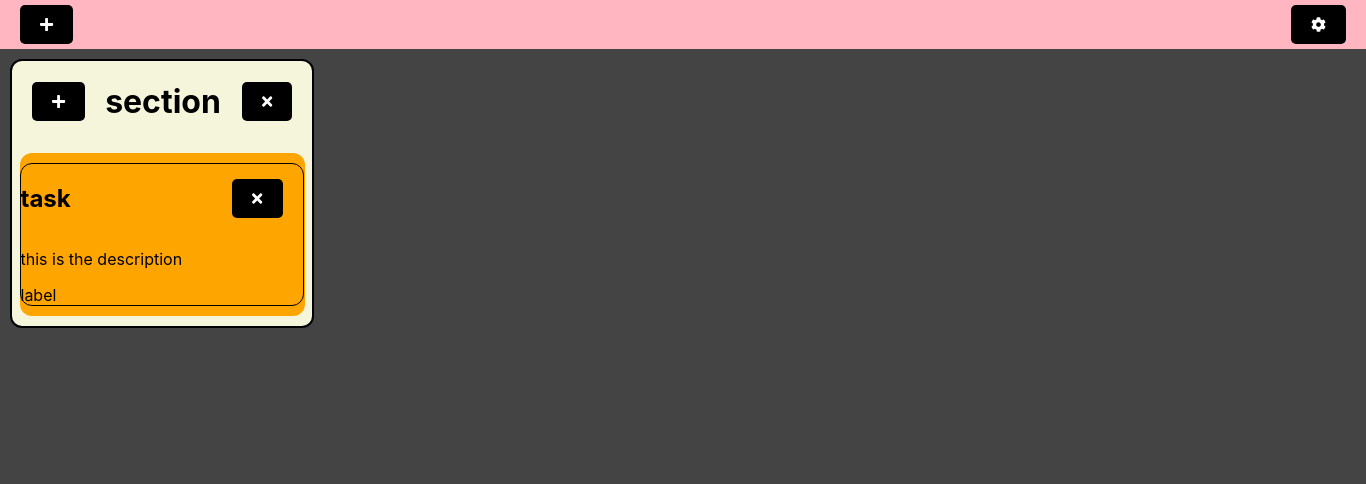
Test case: mocking fetch rest POST functions › POST function for Section component
Click the 1st button: [47, 24] box [20, 5, 73, 44]
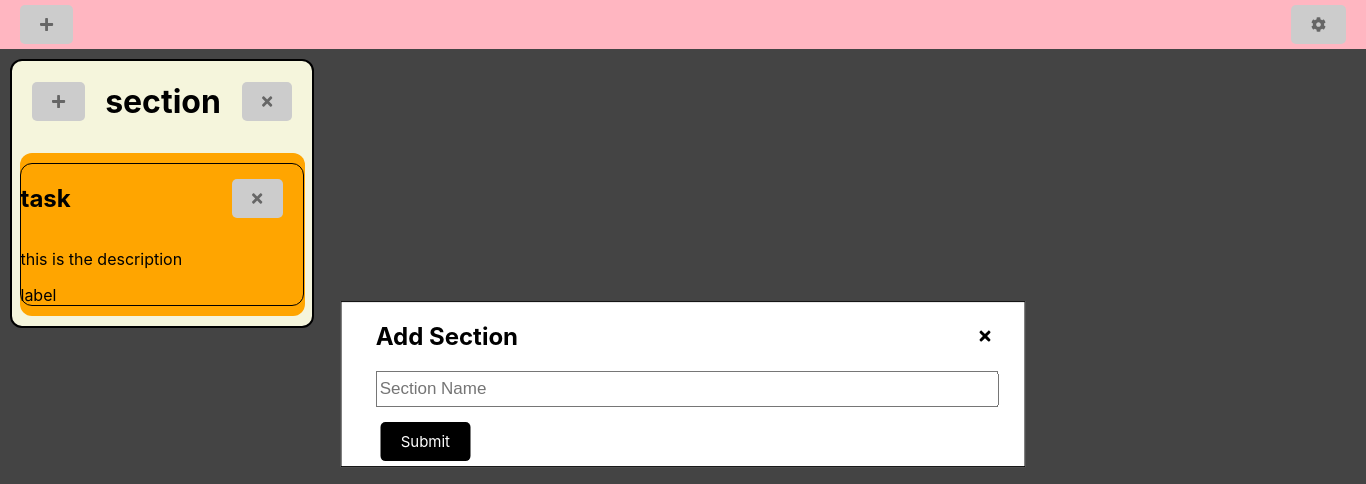
In the field: [687, 389] box [376, 371, 998, 407], type "testing"
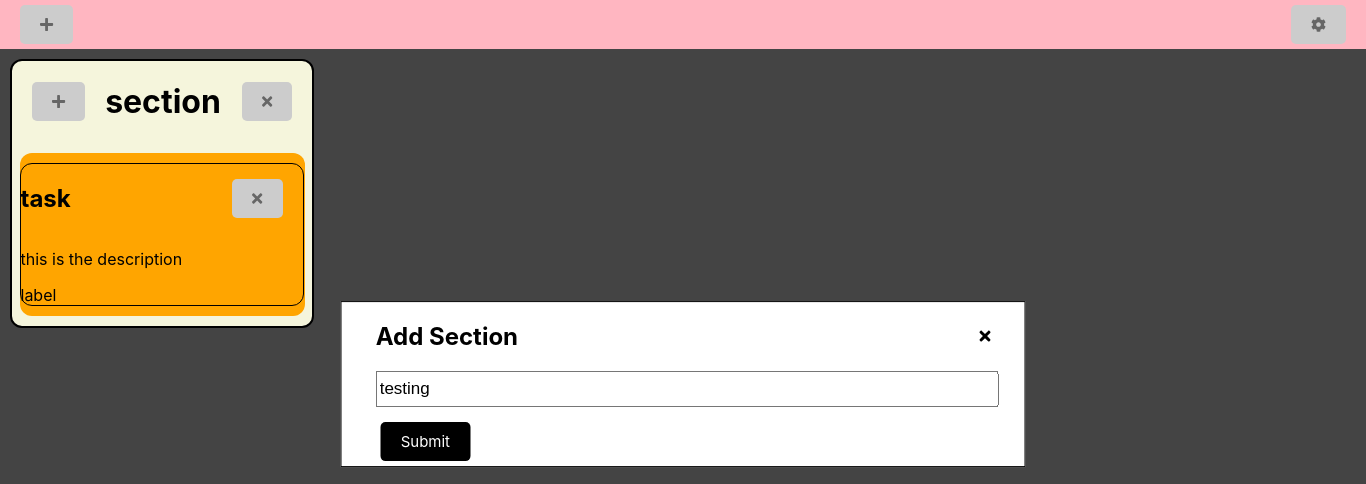
Click the button "Submit": [425, 441] box [381, 422, 470, 461]
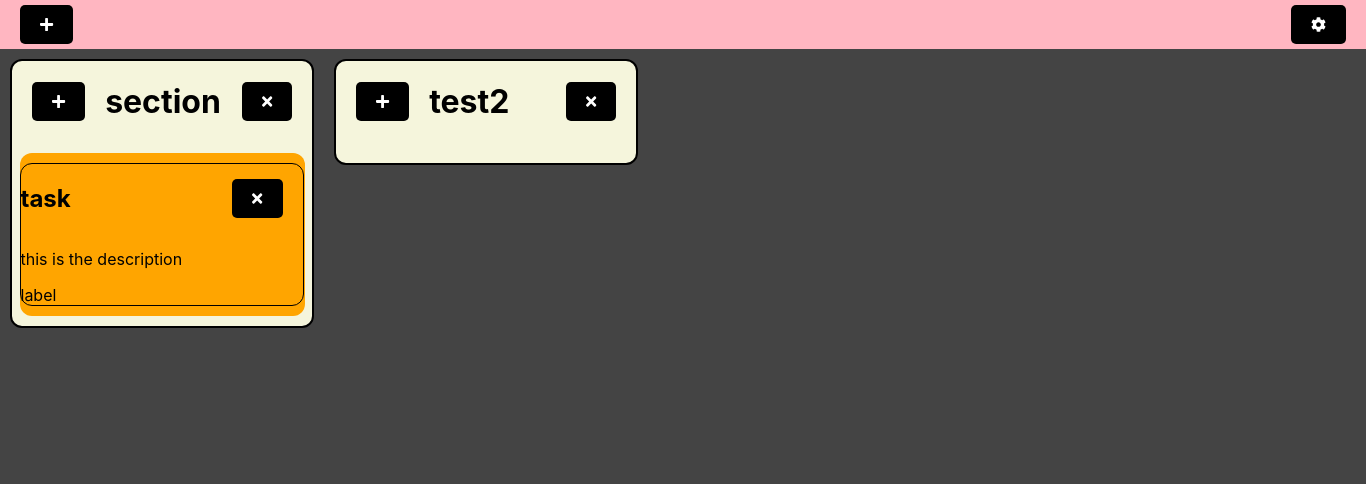
Result: the heading "test2" is shown at [429, 82, 509, 121]
